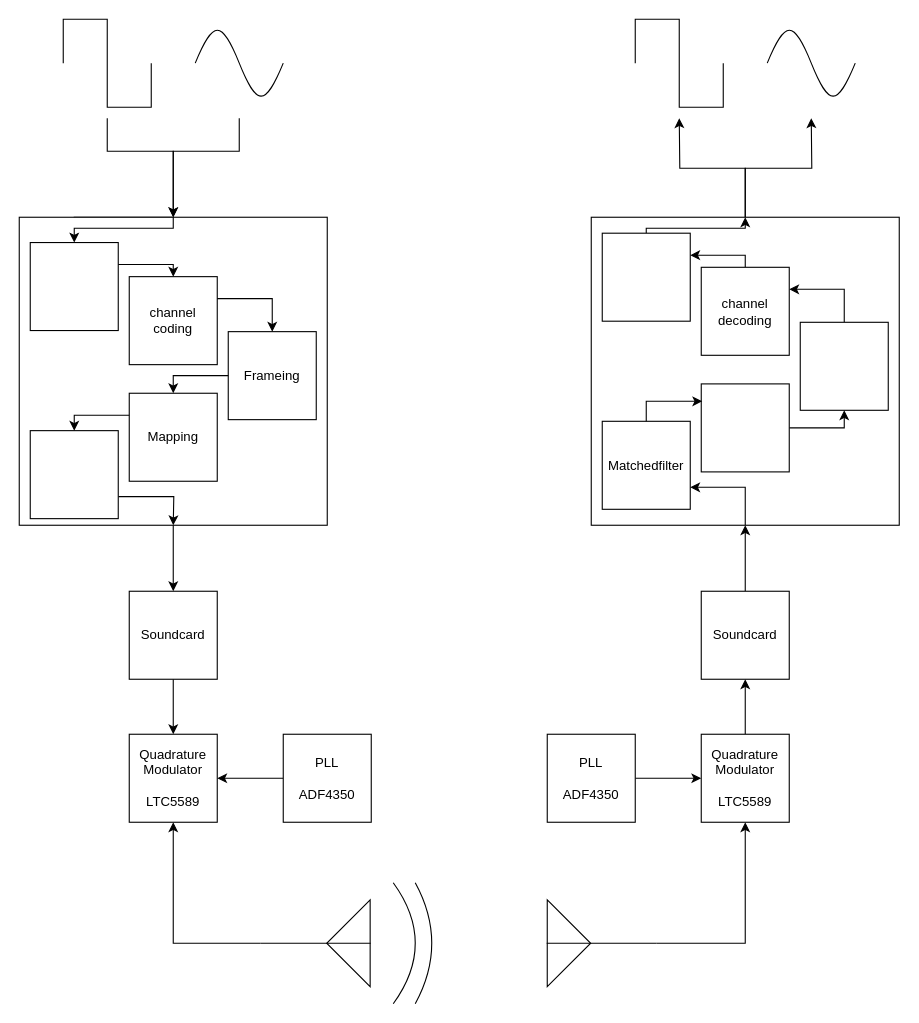
Some shapes in this 919 by 1023 pixel diagram are drawn without their labels. The shapes that lost their labels are listed below. From the top down, each one's centre as x and y in pixels, then its label:
At point 73,286: "source coding".
At point 645,276: "source decoding".
At point 843,365: "demapping".
At point 744,427: "synch-ronisation".
At point 73,474: "Pulsformung".
